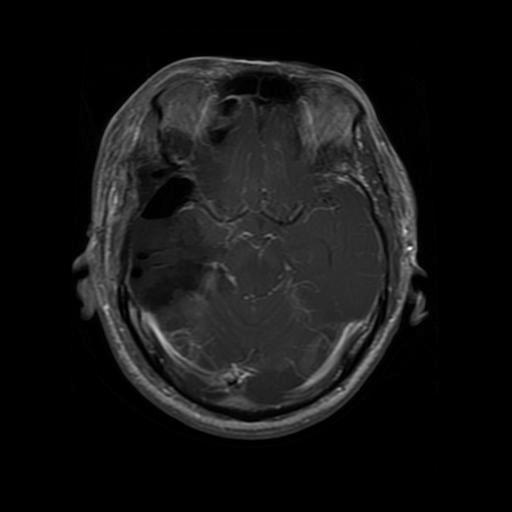Tumour-Glioma: (130, 205, 220, 321)
